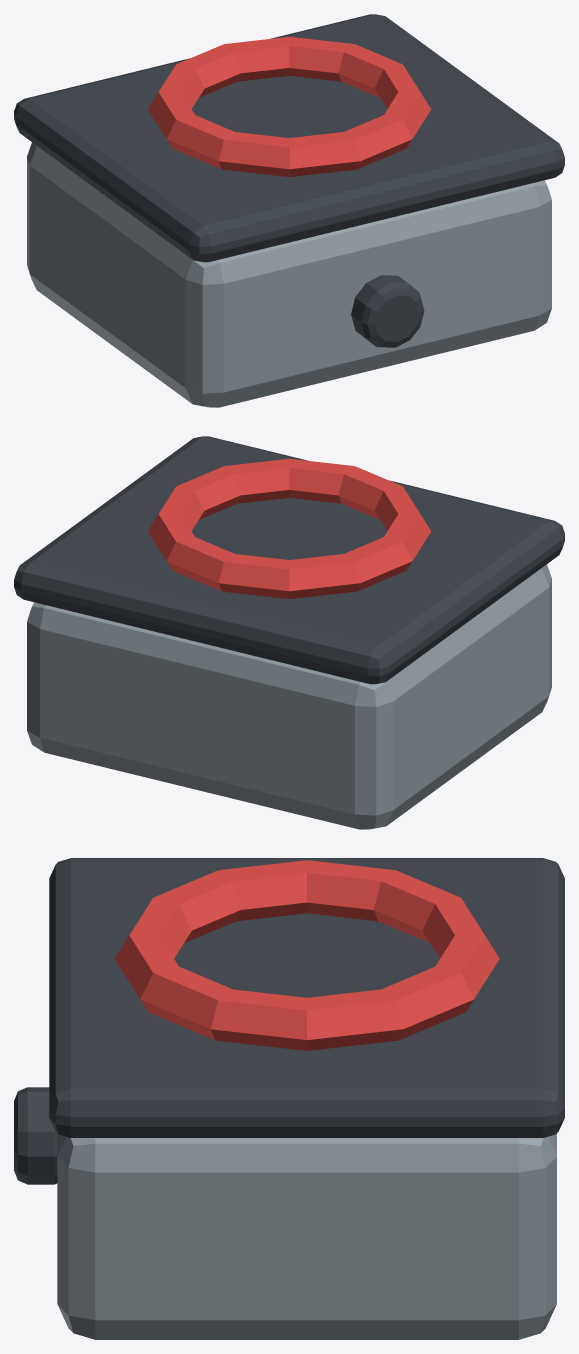
Rendered from SingleStove.fbx.
The picture shows the model from 3 angles, top to bottom: view 1: azimuth 30°, elevation 25°; view 2: azimuth 150°, elevation 25°; view 3: azimuth 270°, elevation 25°; orthographic projection. The views are drawn at different scales.
Visible parts, largest first — view 1: SingleStoveBody, SingleStoveTop, SingleBurner, SingleKnob; view 2: SingleStoveBody, SingleStoveTop, SingleBurner; view 3: SingleStoveTop, SingleStoveBody, SingleBurner, SingleKnob.
Boxes of the visible parts, left/top/right/bottom form: SingleStoveBody: left=27, top=142, right=551, bottom=407; SingleStoveTop: left=14, top=14, right=564, bottom=262; SingleBurner: left=147, top=36, right=431, bottom=177; SingleKnob: left=351, top=275, right=424, bottom=347; SingleStoveBody: left=27, top=564, right=551, bottom=829; SingleStoveTop: left=14, top=436, right=564, bottom=684; SingleBurner: left=147, top=458, right=431, bottom=599; SingleStoveTop: left=49, top=858, right=564, bottom=1137; SingleStoveBody: left=57, top=1133, right=556, bottom=1339; SingleBurner: left=114, top=860, right=499, bottom=1050; SingleKnob: left=14, top=1087, right=57, bottom=1184.
Size of the model in its own units: 1.08 by 0.6076 by 1.02.
